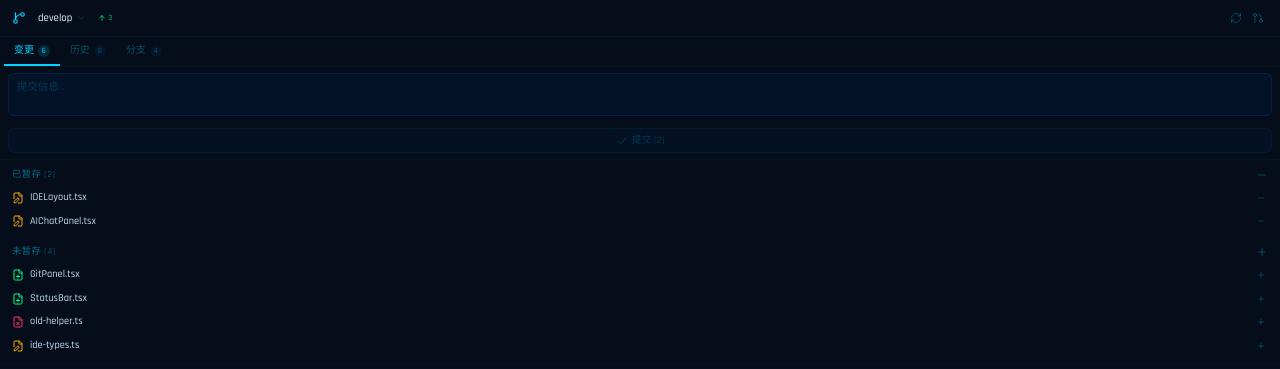
Scenario: GitPanel › branches tab → 4 分支渲染 + 当前分支高亮
Click the text "分支": (136, 51) left=126, top=43, right=146, bottom=58
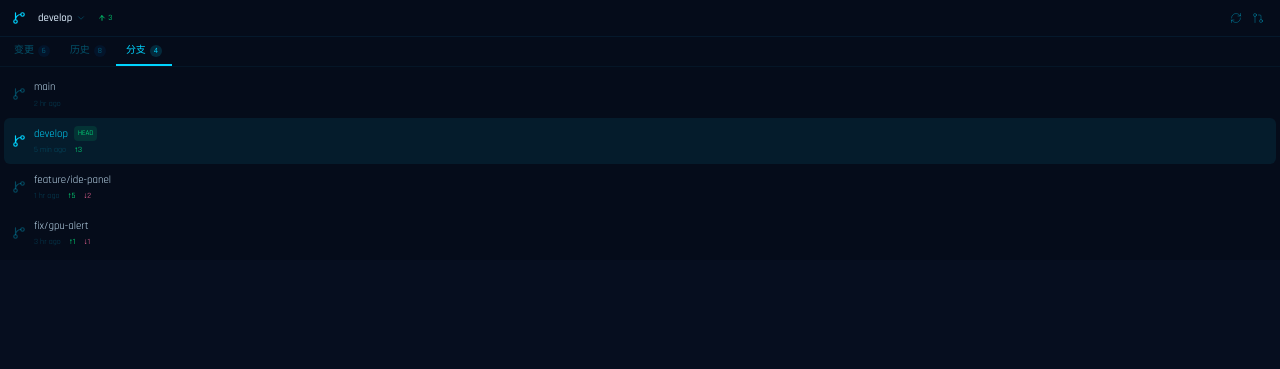
Result: the text "main" is shown at left=34, top=79, right=56, bottom=96
Result: the text "feature/ide-panel" is shown at left=34, top=172, right=111, bottom=188
Result: the text "fix/gpu-alert" is shown at left=34, top=218, right=88, bottom=234
